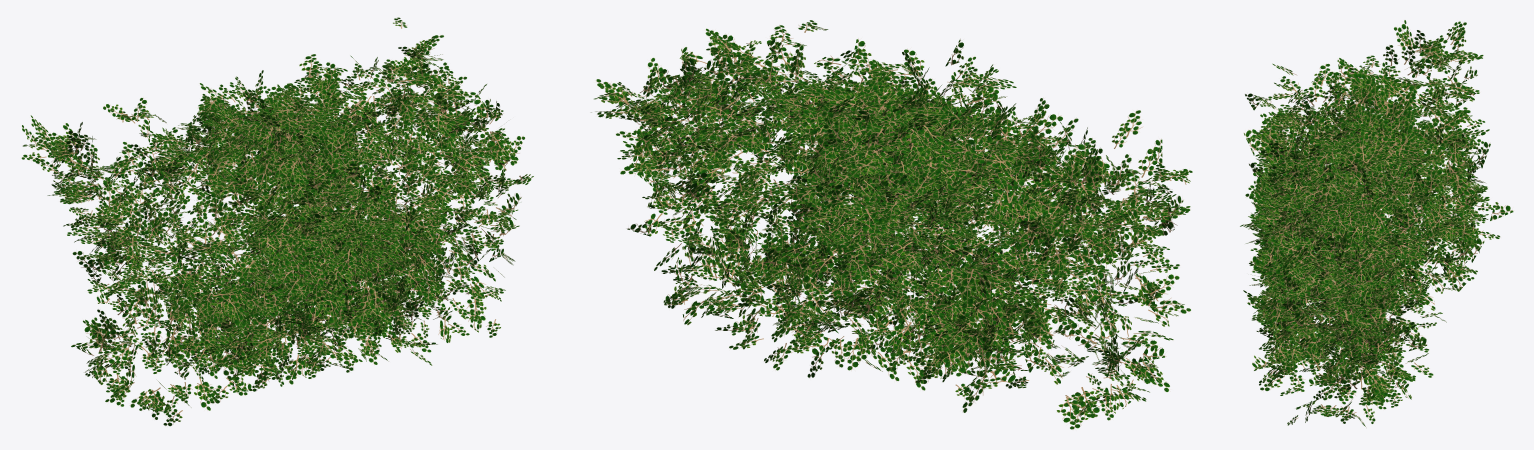
The model's file is hedgeRow.glb.
3 renders of one model, left to right at view 1: azimuth 30°, elevation 25°; view 2: azimuth 150°, elevation 25°; view 3: azimuth 270°, elevation 25°, orthographic. The views are drawn at different scales.
Visible parts, largest first — view 1: LC2.004; view 2: LC2.004; view 3: LC2.004.
Part boxes in pixels (x1,y1,x2,y2): LC2.004: (21,17,533,426); LC2.004: (591,20,1192,429); LC2.004: (1240,20,1513,427).
Size of the model in its own units: 6 by 3.5 by 3.5.
Materials: 1 (1 with a texture image).
